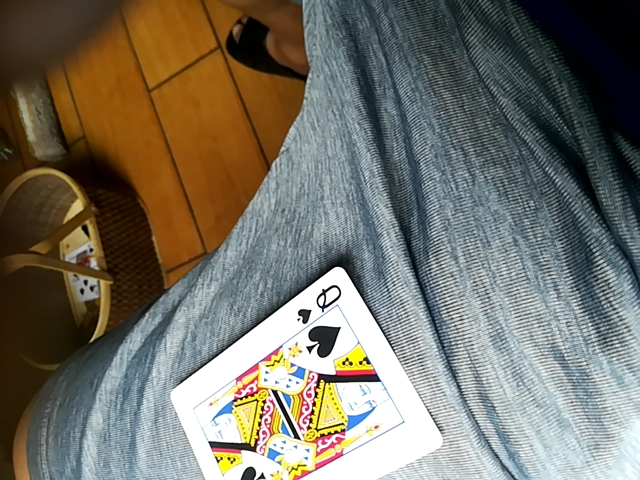ht q: (166, 264, 437, 478)
